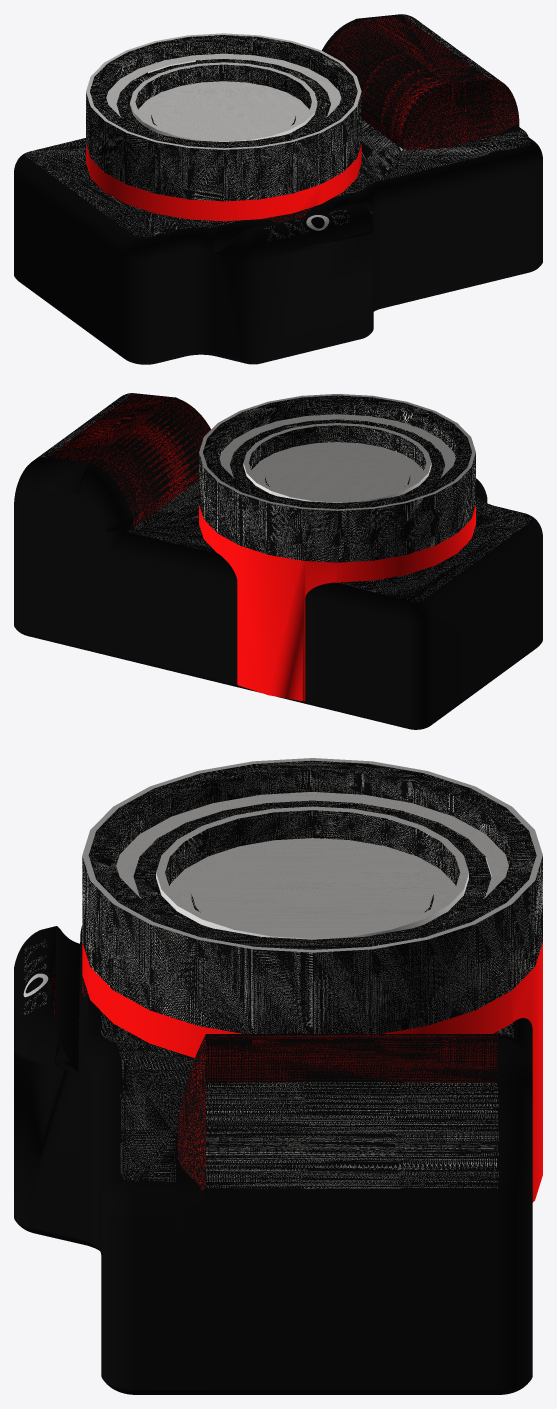
Rendered from model_scale.obj.
3 renders of one model, top to bottom at view 1: azimuth 30°, elevation 25°; view 2: azimuth 150°, elevation 25°; view 3: azimuth 270°, elevation 25°, orthographic. The views are drawn at different scales.
Parts seen in each view (by area): view 1: mesh1_mesh1-geometry; view 2: mesh1_mesh1-geometry; view 3: mesh1_mesh1-geometry.
Part boxes in pixels (x1,y1,x2,y2): mesh1_mesh1-geometry: (14,14,542,364); mesh1_mesh1-geometry: (14,393,542,729); mesh1_mesh1-geometry: (14,758,542,1394).
Bounding box in the file's own units: 0.1551 × 0.0707 × 0.1024.
